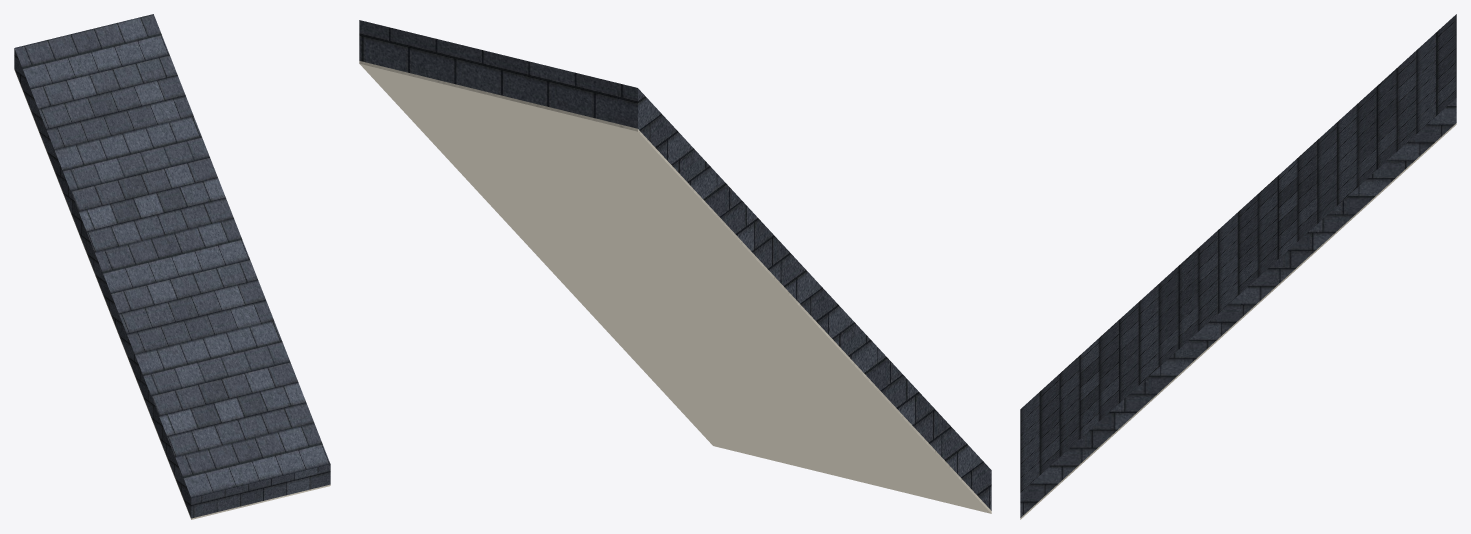
File: roof_slope.glb
The picture shows the model from 3 angles, left to right: view 1: azimuth 30°, elevation 25°; view 2: azimuth 150°, elevation 25°; view 3: azimuth 270°, elevation 25°; orthographic projection. The views are drawn at different scales.
Visible parts, largest first — view 1: roof_slope_shingle, roof_slope_plaster; view 2: roof_slope_plaster, roof_slope_shingle; view 3: roof_slope_shingle, roof_slope_plaster.
Boxes of the visible parts, left/top/right/bottom form: roof_slope_shingle: left=14, top=14, right=330, bottom=518; roof_slope_plaster: left=14, top=69, right=330, bottom=519; roof_slope_plaster: left=359, top=61, right=991, bottom=513; roof_slope_shingle: left=359, top=20, right=991, bottom=510; roof_slope_shingle: left=1020, top=14, right=1456, bottom=517; roof_slope_plaster: left=1020, top=123, right=1456, bottom=519.
Bounding box in the file's own units: 2 × 4.7 × 4.4.
Materials: 2 (2 with a texture image).
